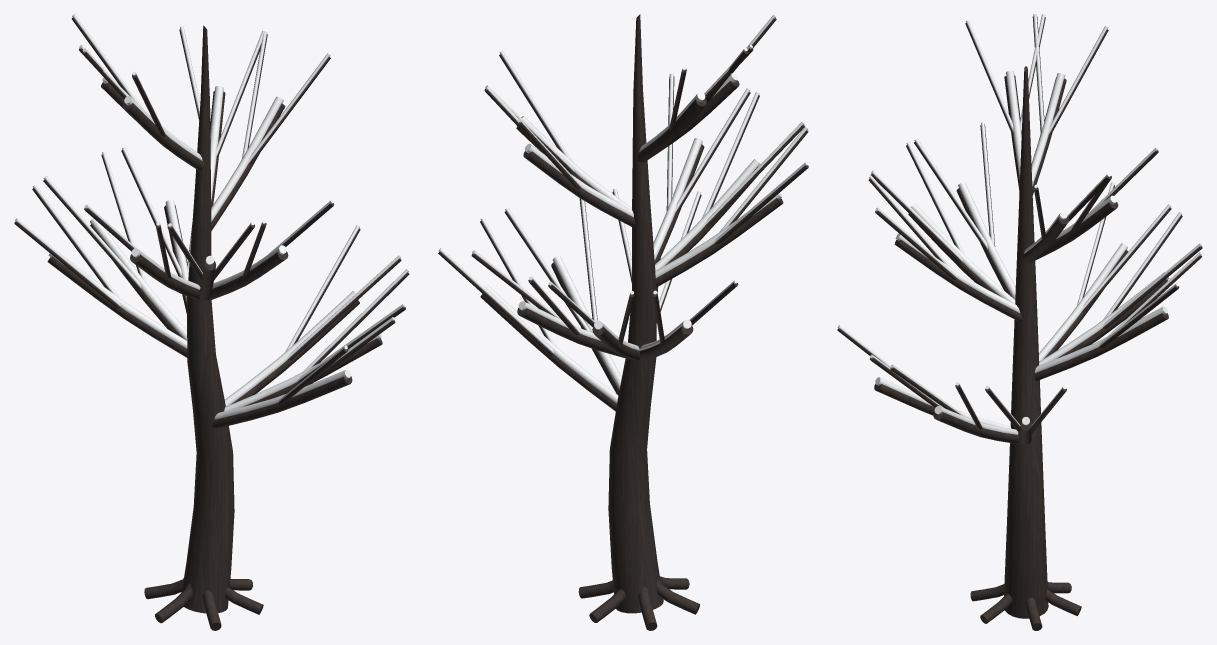
File: tree_3.glb
3 renders of one model, left to right at view 1: azimuth 30°, elevation 25°; view 2: azimuth 150°, elevation 25°; view 3: azimuth 270°, elevation 25°, orthographic. The views are drawn at different scales.
Parts seen in each view (by area): view 1: tree_3; view 2: tree_3; view 3: tree_3.
Boxes of the visible parts, x1=… form: tree_3: x1=14, y1=14, x2=409, y2=630; tree_3: x1=438, y1=14, x2=808, y2=630; tree_3: x1=837, y1=14, x2=1202, y2=630.
Bounding box in the file's own units: 3.36 × 5.86 × 3.57.
Materials: 1 (1 with a texture image).
